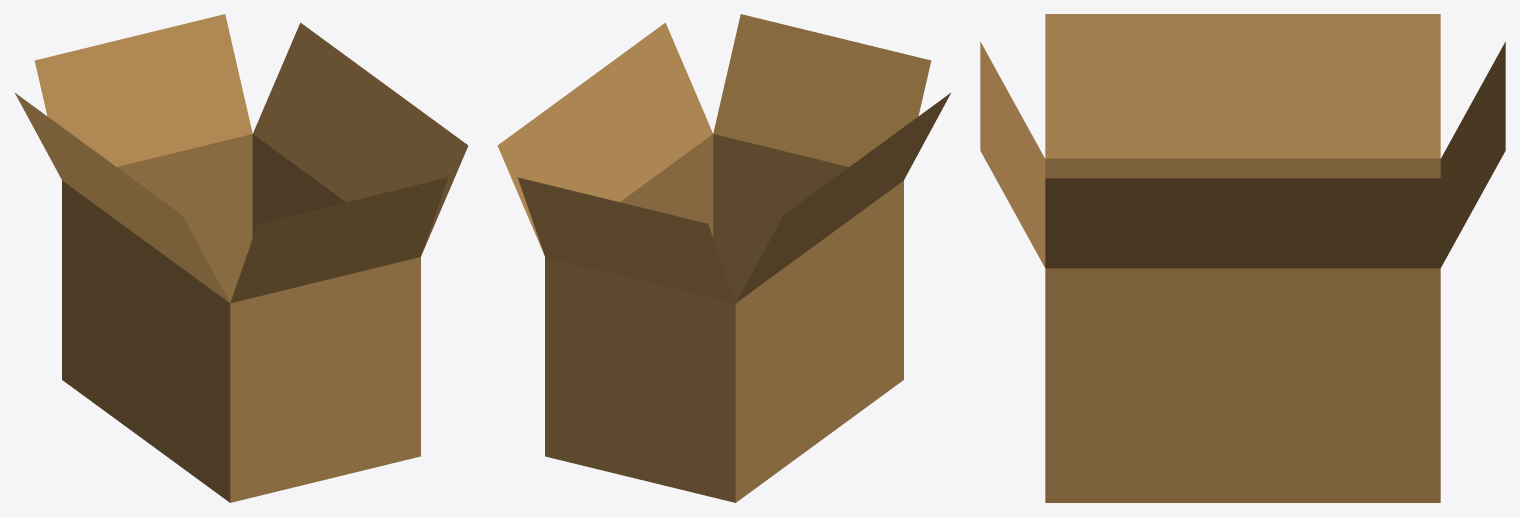
3 renders of one model, left to right at view 1: azimuth 30°, elevation 25°; view 2: azimuth 150°, elevation 25°; view 3: azimuth 270°, elevation 25°, orthographic. The views are drawn at different scales.
Parts seen in each view (by area): view 1: BoxTwo; view 2: BoxTwo; view 3: BoxTwo.
Boxes of the visible parts, x1,y1,x2,y2 form: BoxTwo: (15, 14, 468, 502); BoxTwo: (497, 14, 950, 502); BoxTwo: (980, 14, 1505, 502).
Bounding box in the file's own units: 300 × 300 × 405.
